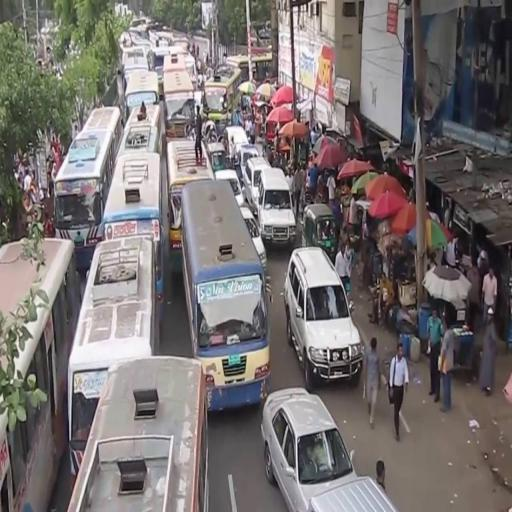bus: (77, 357, 213, 512), (182, 180, 269, 405), (1, 238, 69, 512), (71, 237, 159, 367), (106, 151, 165, 241), (54, 130, 103, 236), (200, 67, 244, 120), (163, 72, 196, 138), (124, 70, 160, 105), (121, 124, 162, 151), (225, 46, 273, 67), (84, 105, 122, 130), (121, 45, 150, 71), (127, 104, 162, 125), (163, 52, 188, 69), (171, 28, 190, 46)
car: (261, 387, 356, 495), (243, 156, 258, 209)
minibus: (166, 138, 214, 180)
pickup: (150, 46, 163, 70)
suv: (280, 245, 366, 386), (258, 165, 297, 237)
three wheelers CNG: (300, 199, 340, 245), (209, 140, 228, 165)
van: (312, 474, 406, 512)
